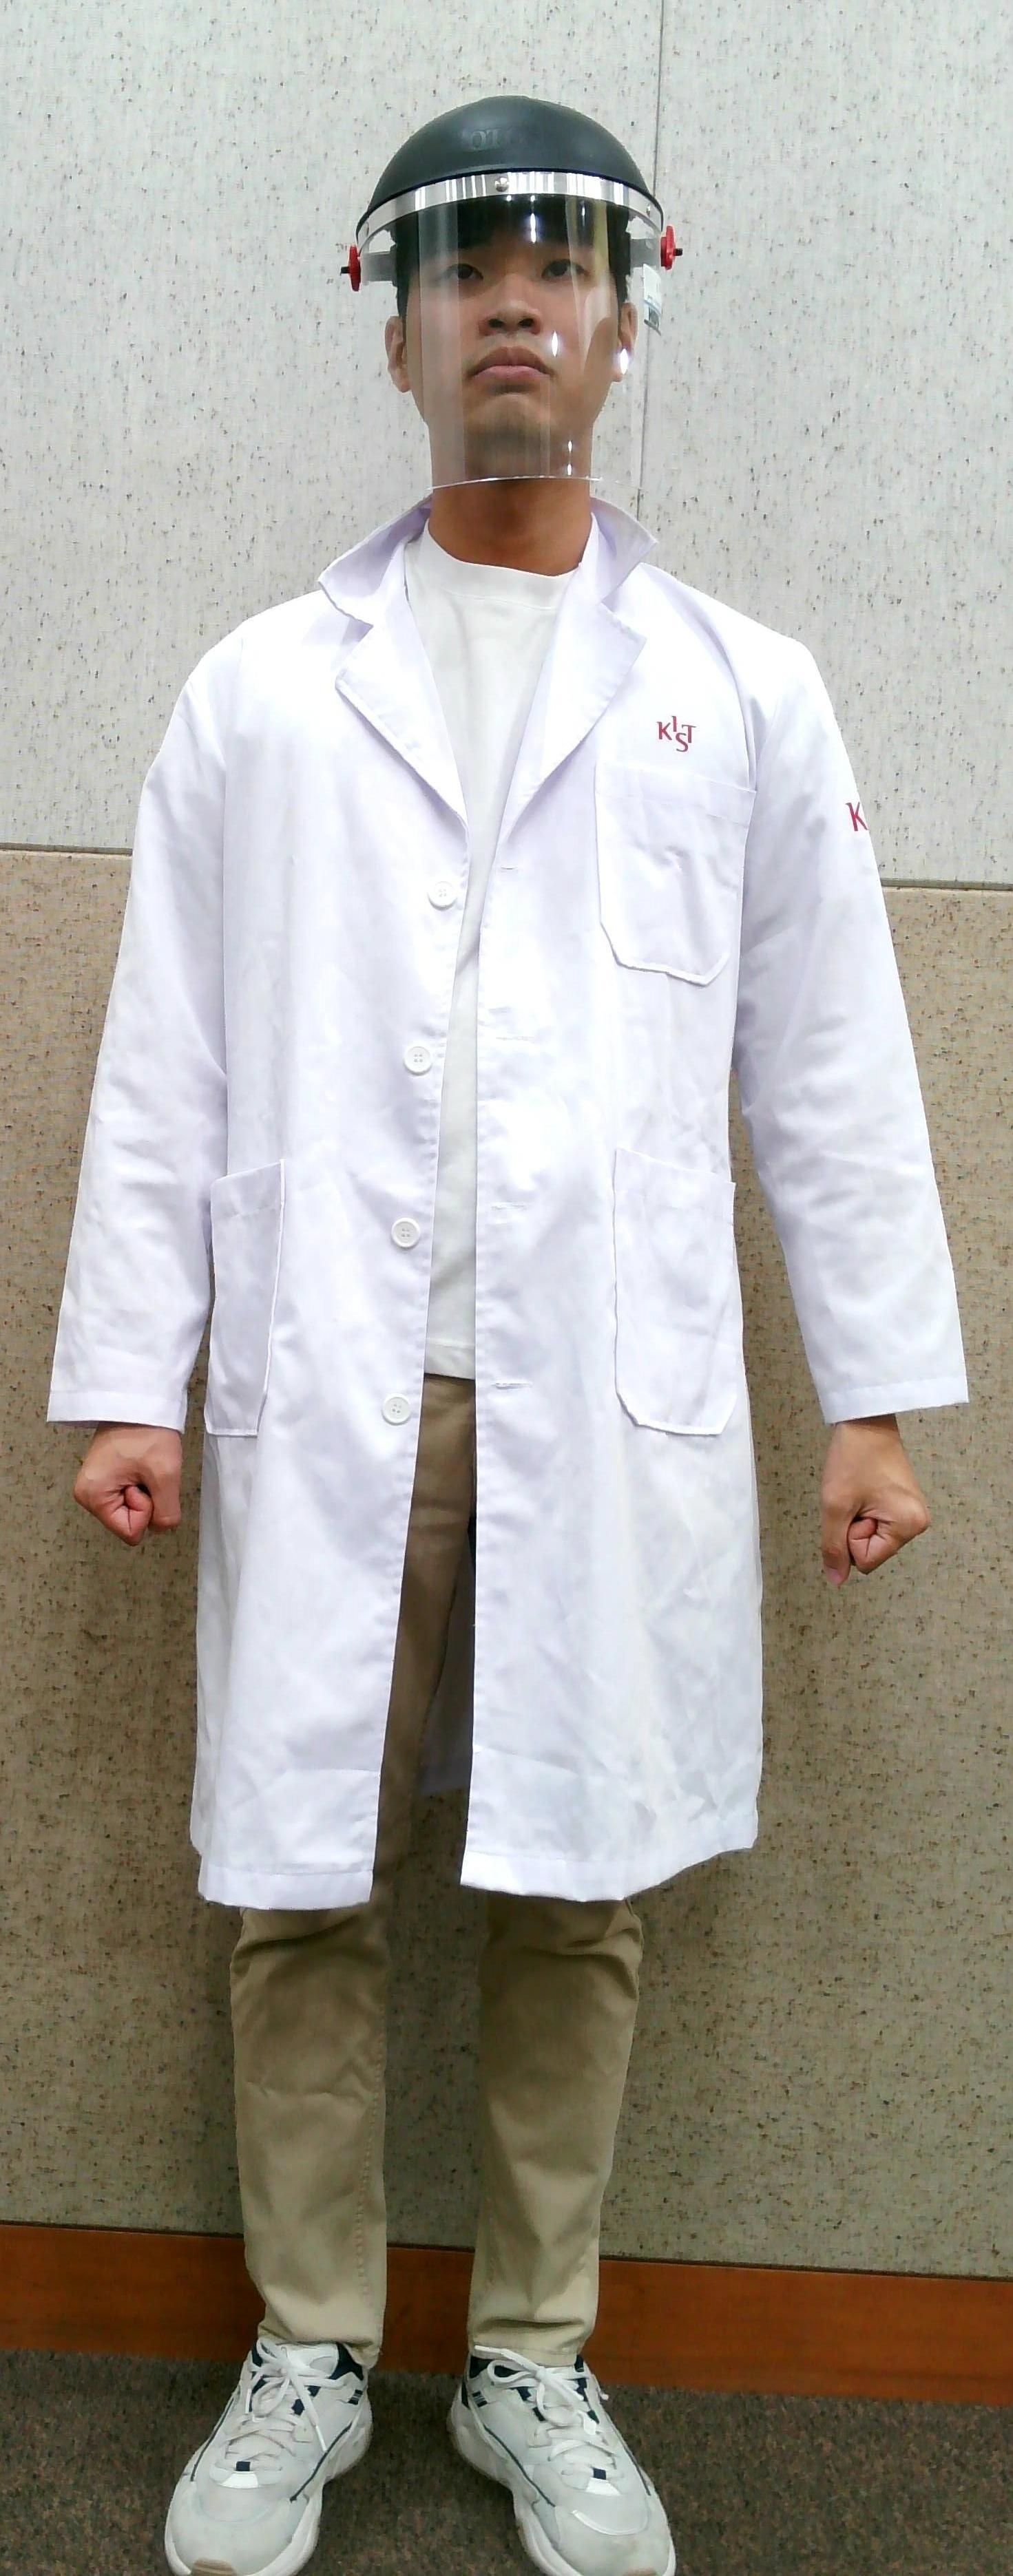lab_coat: (169, 642, 779, 1876)
